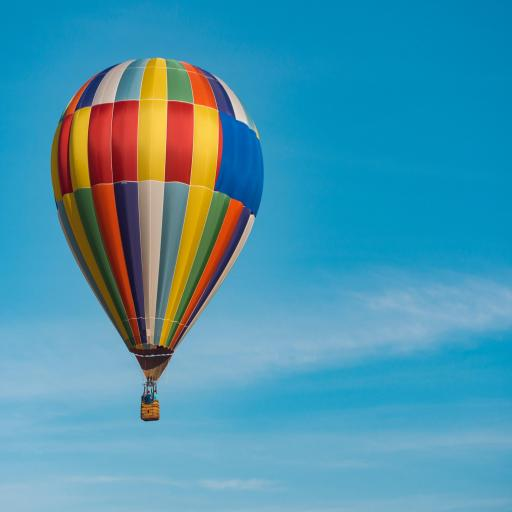hot air ballon: (51, 56, 263, 423)
